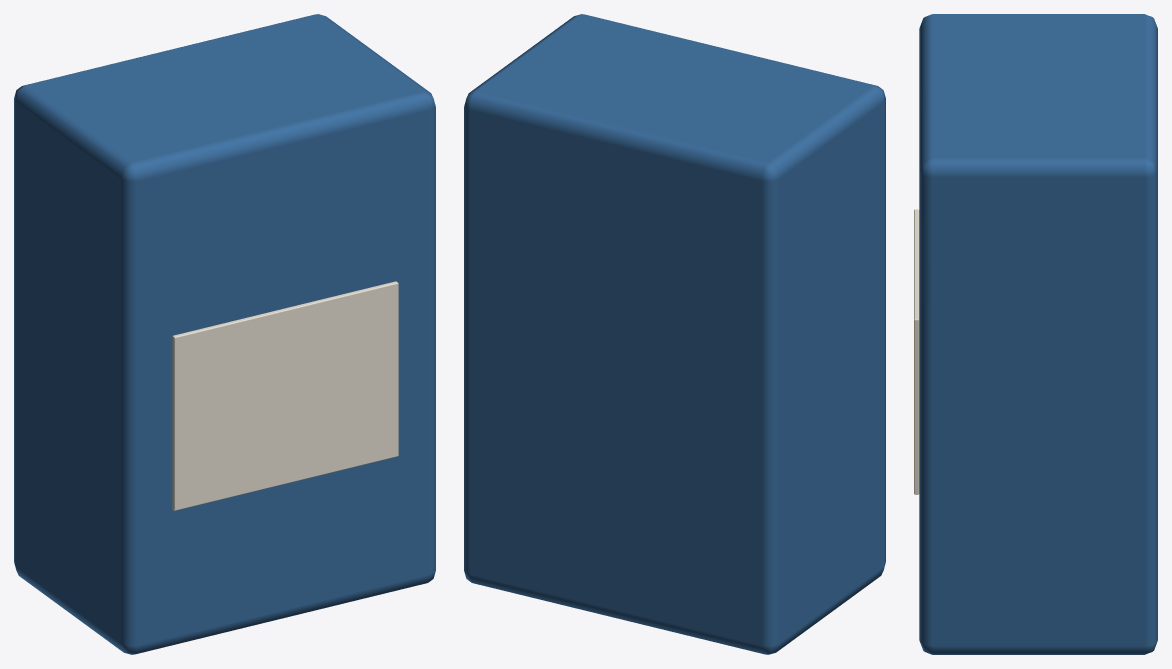
Rendered from wp-paquet-de-sucre.glb.
The picture shows the model from 3 angles, left to right: view 1: azimuth 30°, elevation 25°; view 2: azimuth 150°, elevation 25°; view 3: azimuth 270°, elevation 25°; orthographic projection.
Visible parts, largest first — view 1: wp-paquet-de-sucre; view 2: wp-paquet-de-sucre; view 3: wp-paquet-de-sucre.
Part boxes in pixels (x1,y1,x2,y2): wp-paquet-de-sucre: (14,14,435,654); wp-paquet-de-sucre: (464,14,885,654); wp-paquet-de-sucre: (914,14,1157,654).
Bounding box in the file's own units: 0.12 × 0.18 × 0.08.
